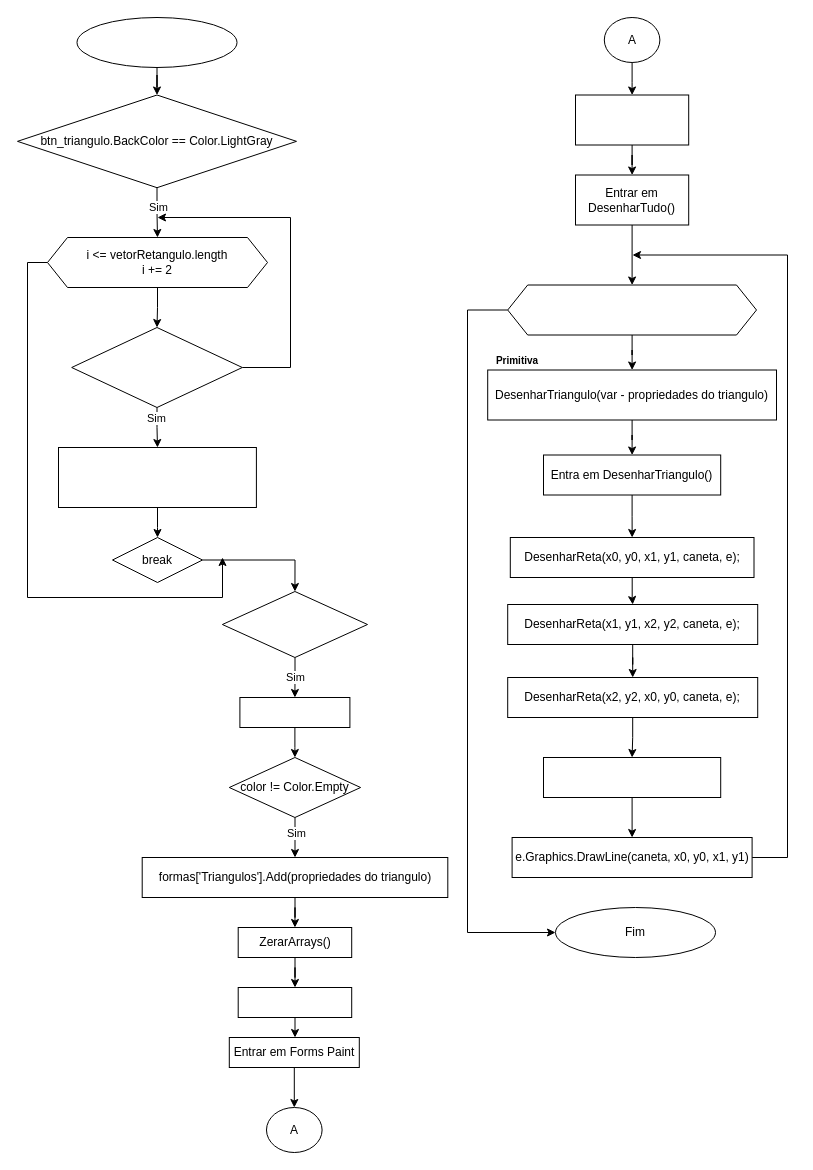
This 813x1170 diagram has some shape labels left out. The shapes that lost their labels are listed below. From the top down, each one's centre as x and y in pixels, then its label:
point 156,42: Início (Mouse Click)
point 631,119: DesenharTudo(e)
point 631,309: foreach var(pos, pen) in formas["Triangulos"]
point 156,367: vetorTriangulo[i] == 0
point 157,477: vetorTriangulo[i] = Mouse.X vetorTriangulo[i+ 1] = Mouse.Y
point 294,624: vetorTriangulo[5] != 0
point 294,712: cor = verificarCor()
point 631,777: Entra em DesenharReta()
point 294,1002: Invalidate()
